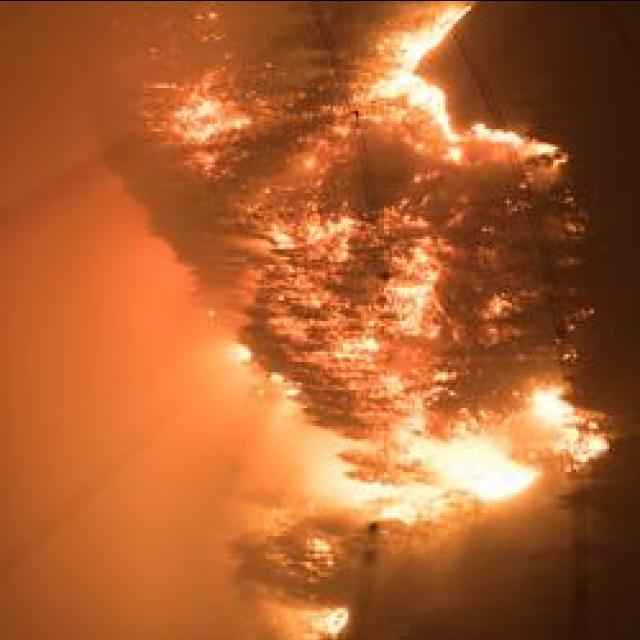fire: (309, 412, 539, 520), (364, 0, 475, 158), (528, 388, 606, 464), (171, 78, 243, 144), (398, 240, 444, 326), (469, 124, 567, 162), (274, 210, 358, 248), (329, 326, 382, 364), (218, 334, 258, 368)
smoke: (8, 214, 205, 344), (3, 172, 173, 281), (588, 168, 640, 284)
